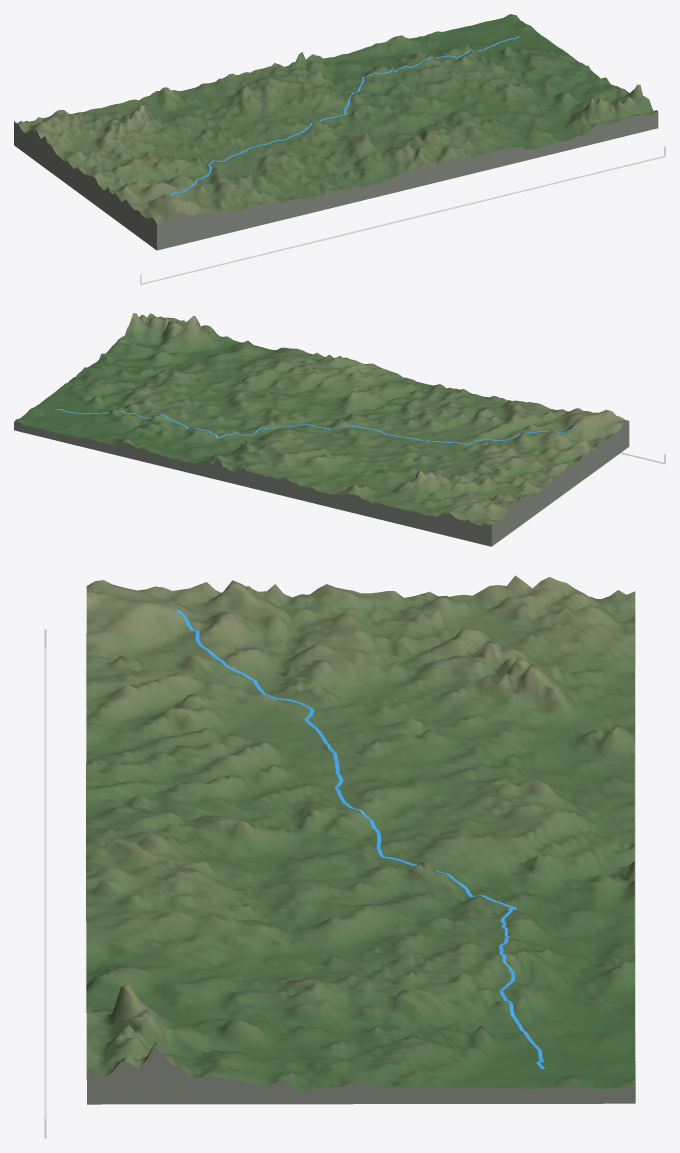
The model's file is boston-marathon-course.glb.
The picture shows the model from 3 angles, top to bottom: view 1: azimuth 30°, elevation 25°; view 2: azimuth 150°, elevation 25°; view 3: azimuth 270°, elevation 25°; orthographic projection. The views are drawn at different scales.
Parts seen in each view (by area): view 1: Geographic terrain, Opaque terrain sides and base, Straightened total-length reference, Mapped routes (gaps retained) (display-width ribbon); view 2: Geographic terrain, Opaque terrain sides and base, Mapped routes (gaps retained) (display-width ribbon); view 3: Geographic terrain, Opaque terrain sides and base, Mapped routes (gaps retained) (display-width ribbon), Straightened total-length reference.
Boxes of the visible parts, x1,y1,x2,y2 form: Geographic terrain: [14, 14, 657, 223]; Opaque terrain sides and base: [14, 111, 658, 250]; Straightened total-length reference: [141, 155, 665, 284]; Mapped routes (gaps retained) (display-width ribbon): [165, 36, 519, 196]; Geographic terrain: [14, 313, 626, 526]; Opaque terrain sides and base: [14, 420, 629, 546]; Mapped routes (gaps retained) (display-width ribbon): [55, 409, 575, 444]; Geographic terrain: [86, 575, 635, 1089]; Opaque terrain sides and base: [86, 630, 635, 1104]; Mapped routes (gaps retained) (display-width ribbon): [176, 609, 544, 1069]; Straightened total-length reference: [44, 648, 46, 1138].
Size of the model in its own units: 42.56 by 4.3 by 21.57.
4 materials, 1 textured.
